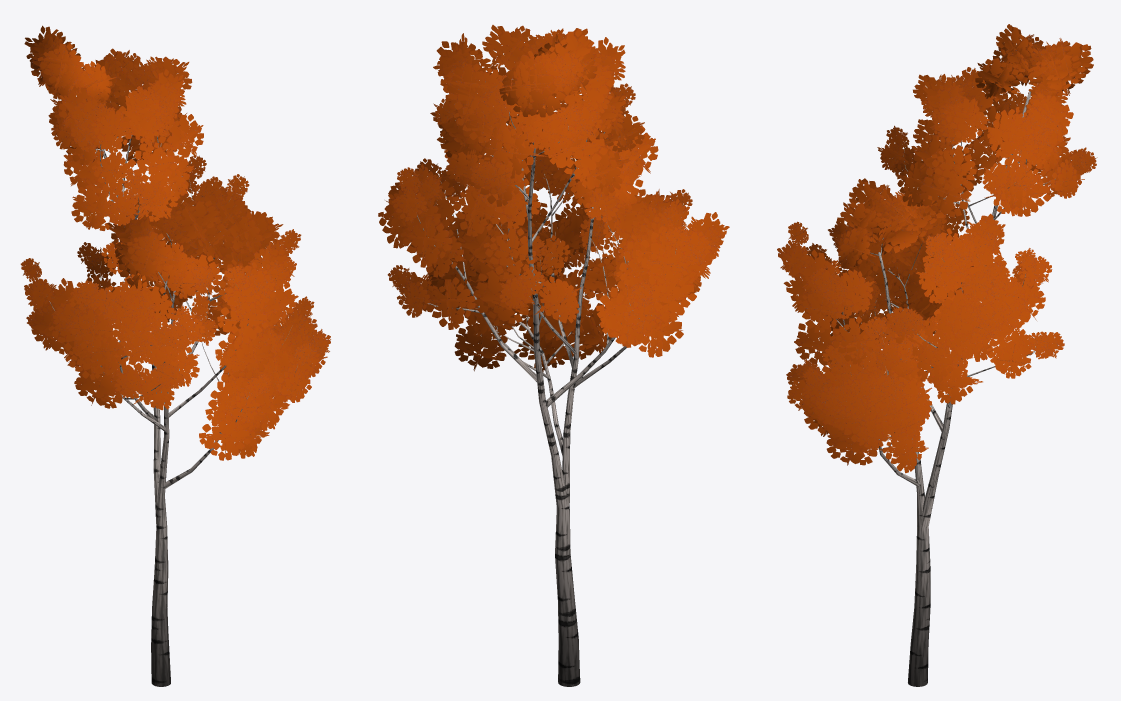
The model's file is Birch_1.glb.
3 renders of one model, left to right at view 1: azimuth 30°, elevation 25°; view 2: azimuth 150°, elevation 25°; view 3: azimuth 270°, elevation 25°, orthographic. The views are drawn at different scales.
Parts seen in each view (by area): view 1: Birch_1; view 2: Birch_1; view 3: Birch_1.
Part boxes in pixels (bbox=[...]): Birch_1: bbox=[20, 25, 330, 686]; Birch_1: bbox=[378, 25, 729, 686]; Birch_1: bbox=[777, 24, 1097, 686].
Size of the model in its own units: 6.43 by 13.72 by 6.54.
Materials: 2 (2 with a texture image).
